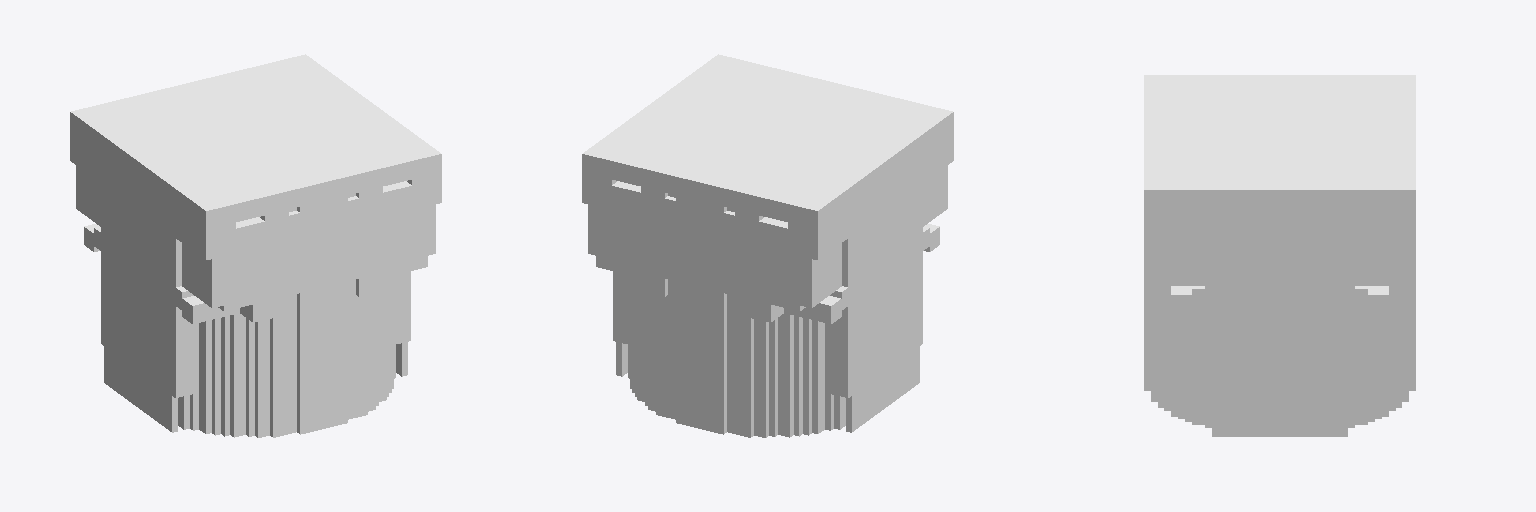
The model's file is groundedge.obj.
3 views of the same model, side by side, from view 1: azimuth 30°, elevation 25°; view 2: azimuth 150°, elevation 25°; view 3: azimuth 270°, elevation 25° (orthographic).
Bounding box in the file's own units: 40 × 40 × 40.